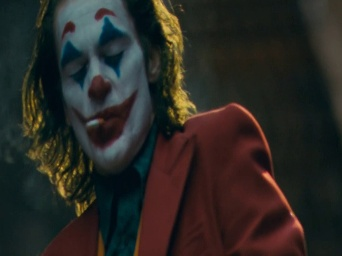smoke: (85, 116, 103, 127)
